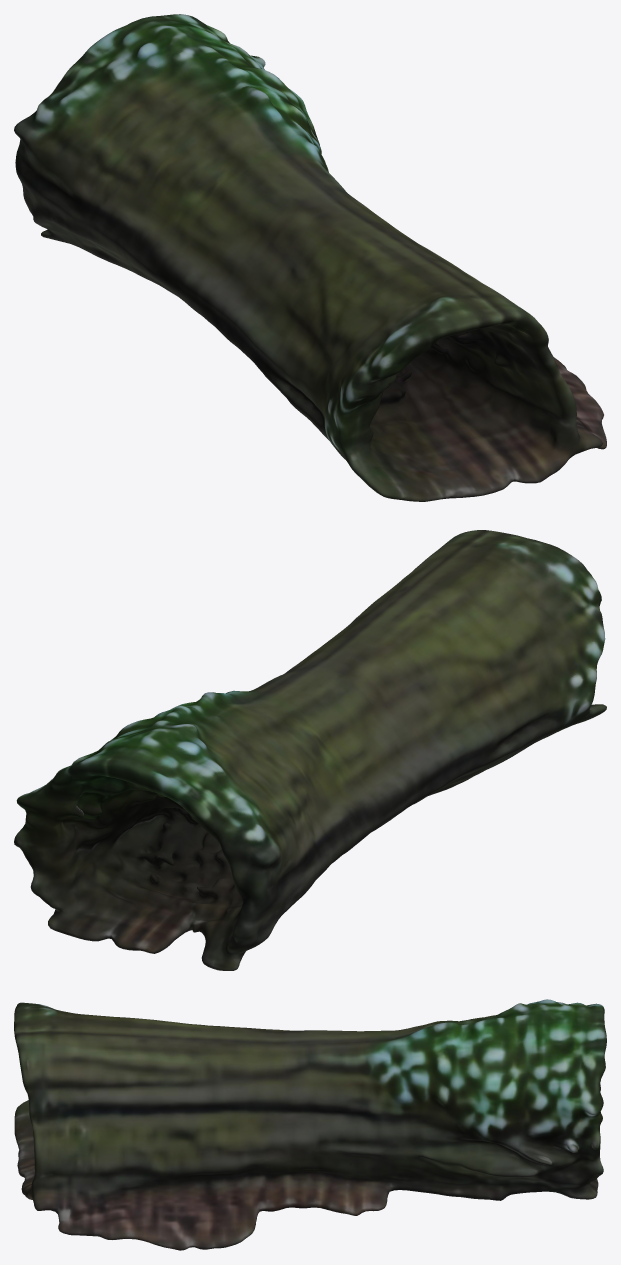
The model's file is Tree_Trank.glb.
3 views of the same model, one above another, from view 1: azimuth 30°, elevation 25°; view 2: azimuth 150°, elevation 25°; view 3: azimuth 270°, elevation 25° (orthographic). The views are drawn at different scales.
Visible parts, largest first — view 1: world; view 2: world; view 3: world.
Part boxes in pixels (<box>): world: <box>14,14,606,501</box>; world: <box>14,530,606,970</box>; world: <box>14,999,606,1250</box>.
Bounding box in the file's own units: 0.274 × 0.1849 × 0.5566.
1 material, 1 textured.
